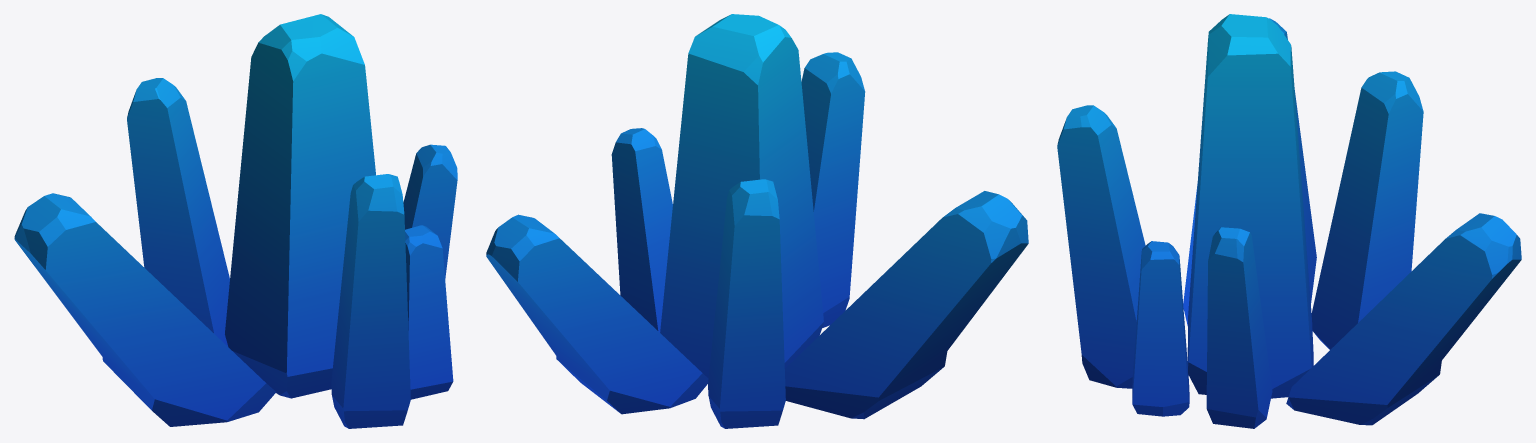
The model's file is crystal_19.fbx.
The picture shows the model from 3 angles, left to right: view 1: azimuth 30°, elevation 25°; view 2: azimuth 150°, elevation 25°; view 3: azimuth 270°, elevation 25°; orthographic projection. The views are drawn at different scales.
Visible parts, largest first — view 1: crystal_19; view 2: crystal_19; view 3: crystal_19.
Part boxes in pixels (bbox=[...]): crystal_19: bbox=[14, 14, 457, 428]; crystal_19: bbox=[486, 14, 1028, 428]; crystal_19: bbox=[1057, 14, 1521, 428].
Bounding box in the file's own units: 10.19 × 7.96 × 9.65.
1 material, 1 textured.
